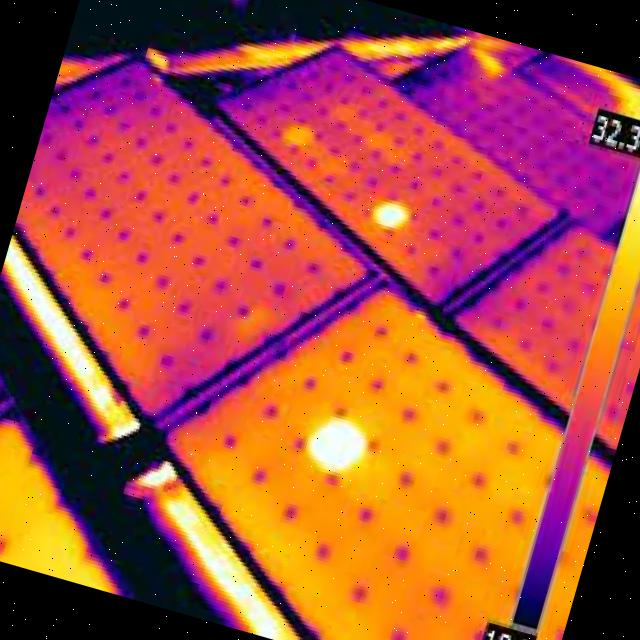Hotspot: (298, 402, 376, 491), (366, 189, 415, 238), (278, 112, 324, 160)
